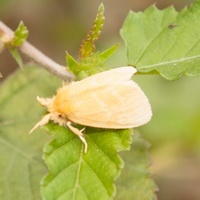insect: (29, 66, 151, 152)
